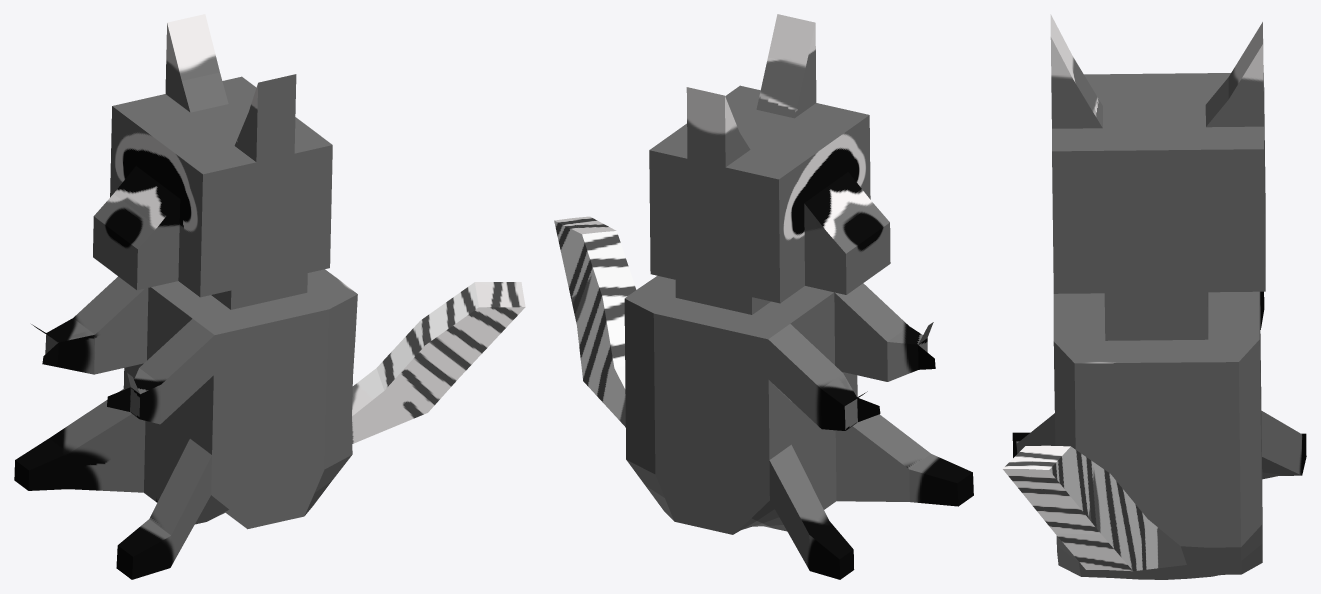
Rendered from raccoon.glb.
The picture shows the model from 3 angles, left to right: view 1: azimuth 30°, elevation 25°; view 2: azimuth 150°, elevation 25°; view 3: azimuth 270°, elevation 25°; orthographic projection. The views are drawn at different scales.
Visible parts, largest first — view 1: imagetostl_mesh0; view 2: imagetostl_mesh0; view 3: imagetostl_mesh0.
Part boxes in pixels (box(x1,y1,x2,y2)): imagetostl_mesh0: box(14, 14, 525, 579); imagetostl_mesh0: box(554, 14, 973, 579); imagetostl_mesh0: box(1003, 14, 1306, 579).
Bounding box in the file's own units: 5.3 × 5.63 × 2.95.
Materials: 1 (1 with a texture image).
